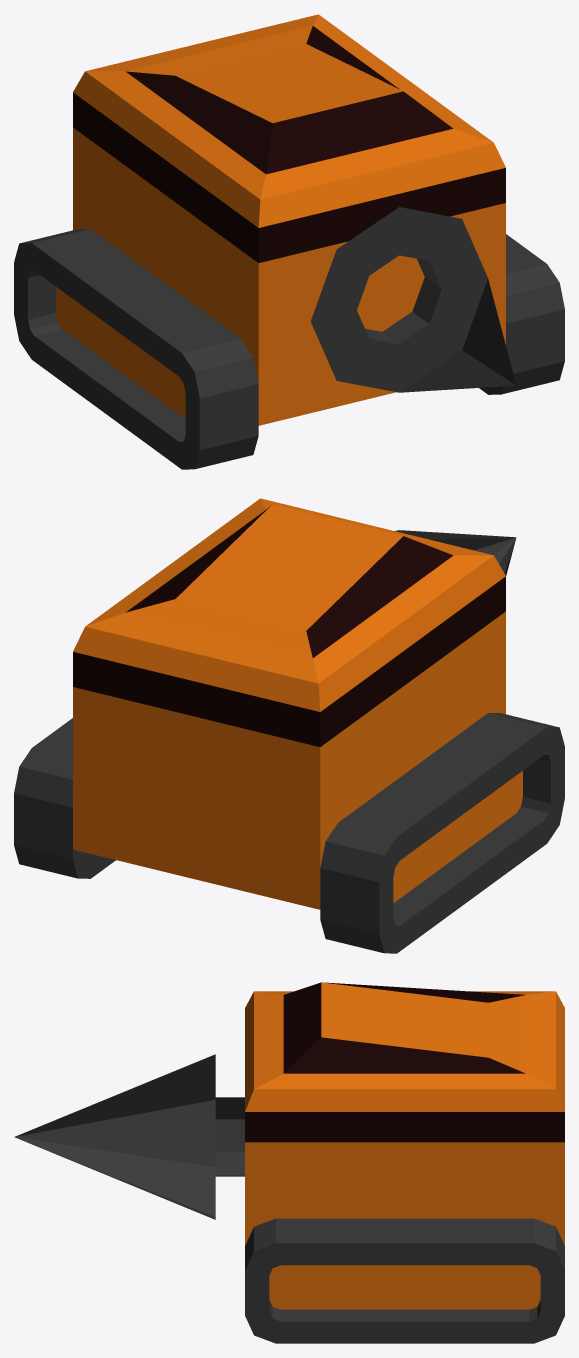
File: miningrobot.fbx
3 views of the same model, one above another, from view 1: azimuth 30°, elevation 25°; view 2: azimuth 150°, elevation 25°; view 3: azimuth 270°, elevation 25° (orthographic). The views are drawn at different scales.
Parts seen in each view (by area): view 1: Circle; view 2: Circle; view 3: Circle.
Boxes of the visible parts, <box> form: Circle: <box>14,14,564,469</box>; Circle: <box>14,498,564,953</box>; Circle: <box>14,982,564,1343</box>.
Bounding box in the file's own units: 227 × 177 × 344.
